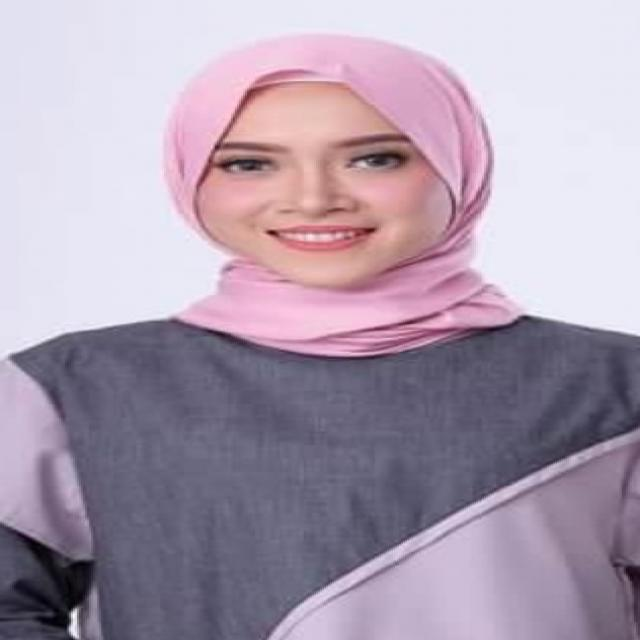head: (141, 32, 494, 289)
